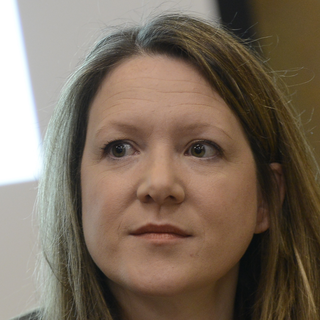eye: (95, 134, 147, 165), (177, 135, 228, 164)
